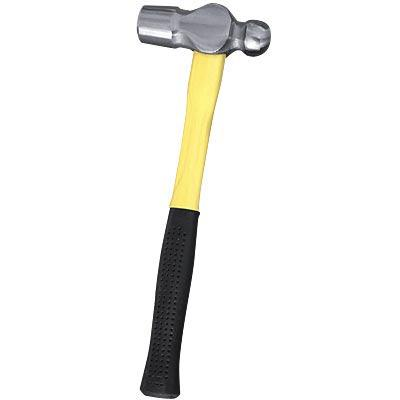hammer: (134, 0, 272, 399)
